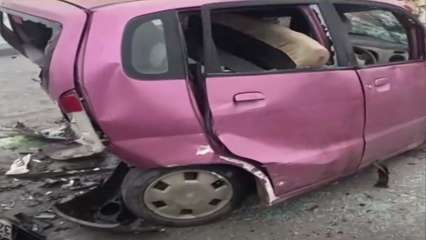accident: (1, 2, 426, 237)
